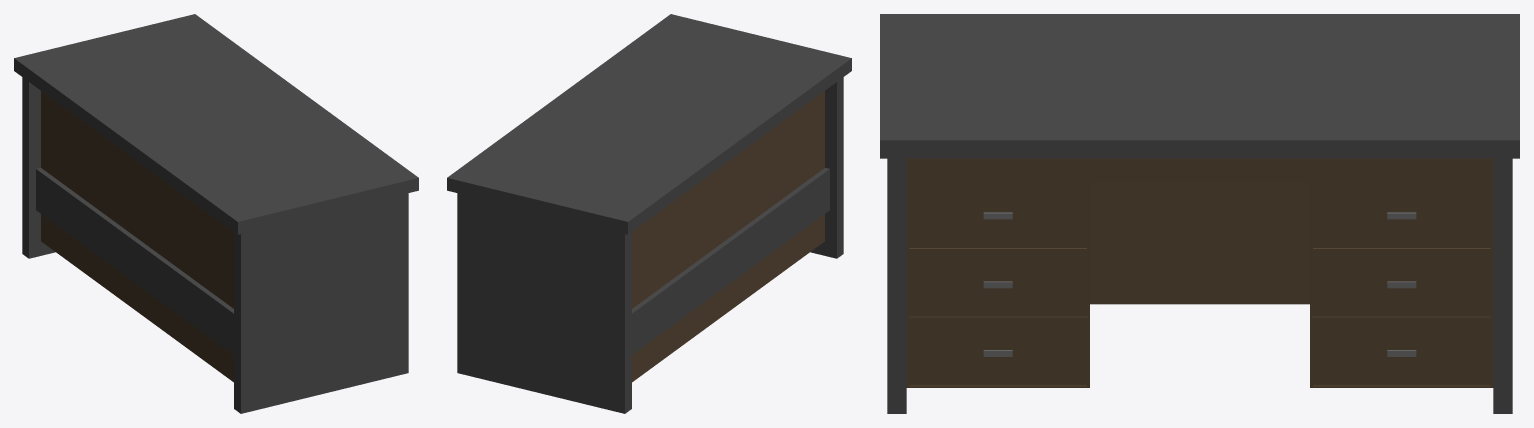
File: Desk1-2.fbx
The picture shows the model from 3 angles, left to right: view 1: azimuth 30°, elevation 25°; view 2: azimuth 150°, elevation 25°; view 3: azimuth 270°, elevation 25°; orthographic projection. The views are drawn at different scales.
Visible parts, largest first — view 1: Desk.001_LOD0; view 2: Desk.001_LOD0; view 3: Desk.001_LOD0.
Part boxes in pixels (bbox=[...]): Desk.001_LOD0: bbox=[14, 14, 418, 413]; Desk.001_LOD0: bbox=[447, 14, 851, 413]; Desk.001_LOD0: bbox=[880, 14, 1519, 413].
Size of what is drawn, in the model's own units: 166 by 171 by 356.
Materials: 1 (1 with a texture image).
